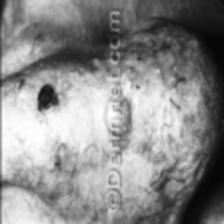Potentially Malignant Skin Tumors: (32, 76, 60, 116)
